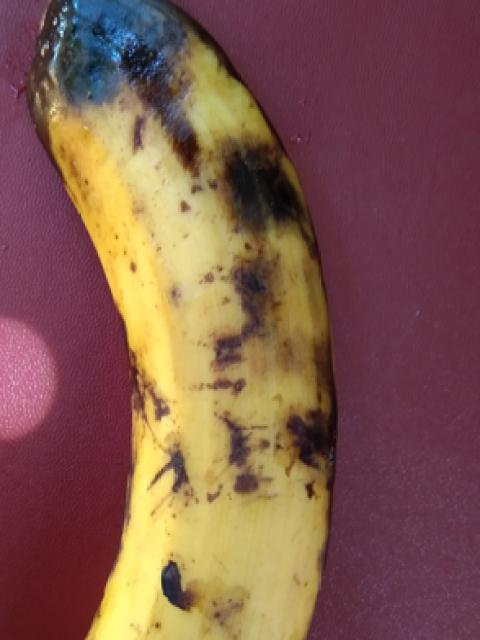overripe: (21, 167, 363, 639)
rotten: (0, 0, 326, 316)
